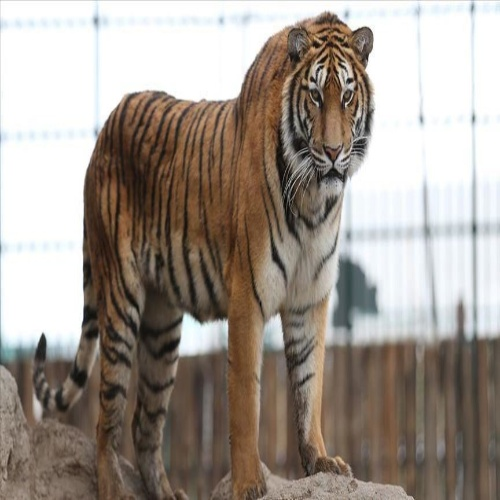tiger: (30, 1, 413, 476)
